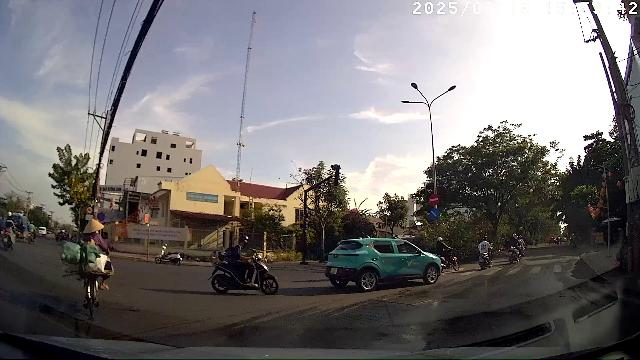102-cam-di-nguoc-chieu: (429, 193, 440, 206)
131a-cam-do-xe: (97, 212, 106, 221)
302a-huong-phai-di-vong-chuong-ngai-vat-1: (428, 208, 440, 220)
